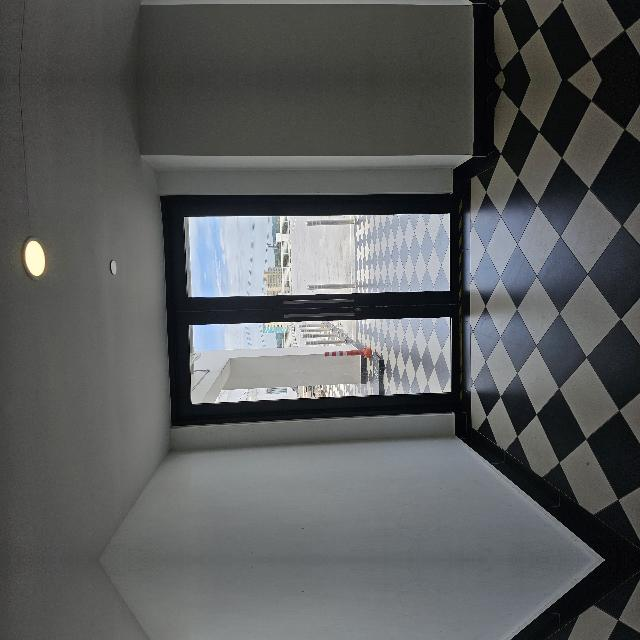door: (125, 245, 372, 548), (124, 572, 371, 640)
